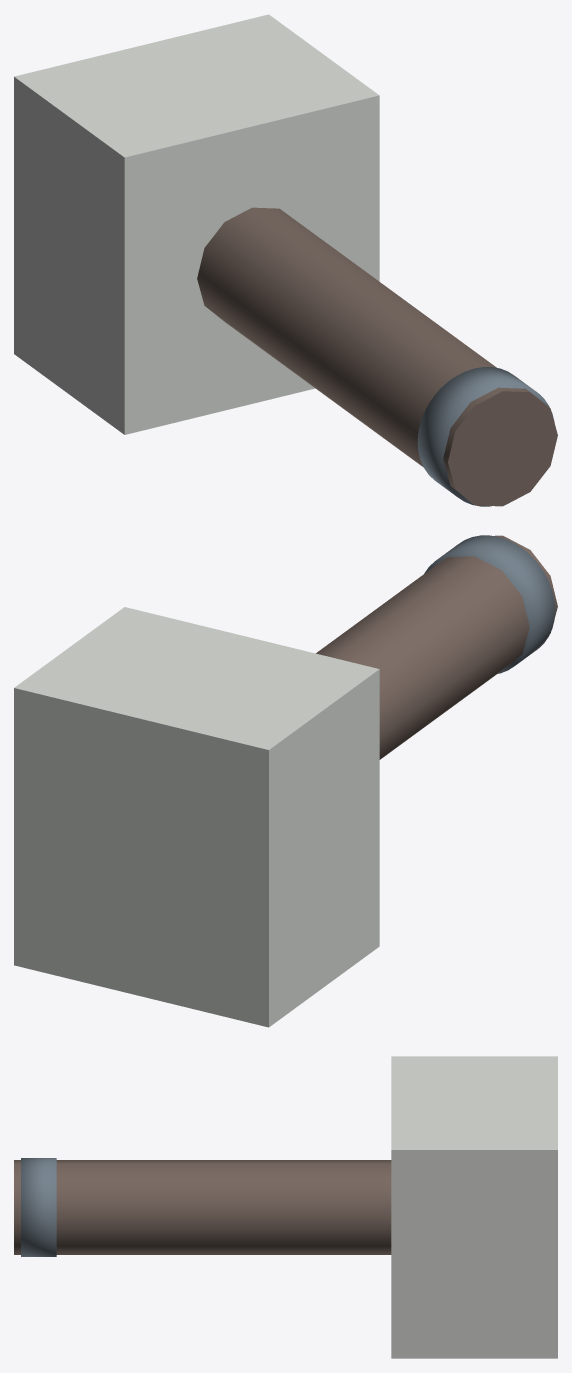
File: curiosity_turret.drill.glb
3 renders of one model, top to bottom at view 1: azimuth 30°, elevation 25°; view 2: azimuth 150°, elevation 25°; view 3: azimuth 270°, elevation 25°, orthographic. The views are drawn at different scales.
Visible parts, largest first — view 1: curiosity_turret.drill.mesh_Pale_thermal_blanket, curiosity_turret.drill.mesh_Heat-stained_alloy, curiosity_turret.drill.mesh_Machined_steel; view 2: curiosity_turret.drill.mesh_Pale_thermal_blanket, curiosity_turret.drill.mesh_Heat-stained_alloy, curiosity_turret.drill.mesh_Machined_steel; view 3: curiosity_turret.drill.mesh_Pale_thermal_blanket, curiosity_turret.drill.mesh_Heat-stained_alloy, curiosity_turret.drill.mesh_Machined_steel.
Part boxes in pixels (x1,y1,x2,y2): curiosity_turret.drill.mesh_Pale_thermal_blanket: (14,14,379,434); curiosity_turret.drill.mesh_Heat-stained_alloy: (197,207,557,506); curiosity_turret.drill.mesh_Machined_steel: (417,367,554,506); curiosity_turret.drill.mesh_Pale_thermal_blanket: (14,607,379,1027); curiosity_turret.drill.mesh_Heat-stained_alloy: (316,535,557,759); curiosity_turret.drill.mesh_Machined_steel: (424,535,555,673); curiosity_turret.drill.mesh_Pale_thermal_blanket: (391,1056,557,1358); curiosity_turret.drill.mesh_Heat-stained_alloy: (14,1160,391,1254); curiosity_turret.drill.mesh_Machined_steel: (21,1158,56,1256).
Bounding box in the file's own units: 0.125 × 0.13 × 0.307.
